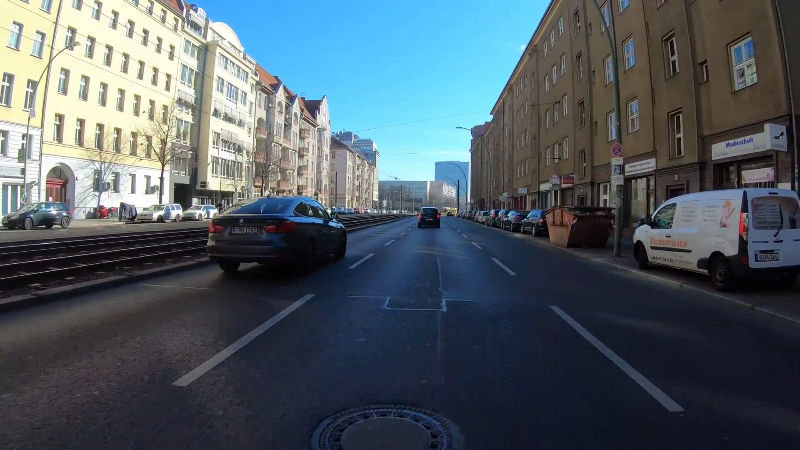Plate: (751, 252, 782, 263), (228, 225, 260, 235)
